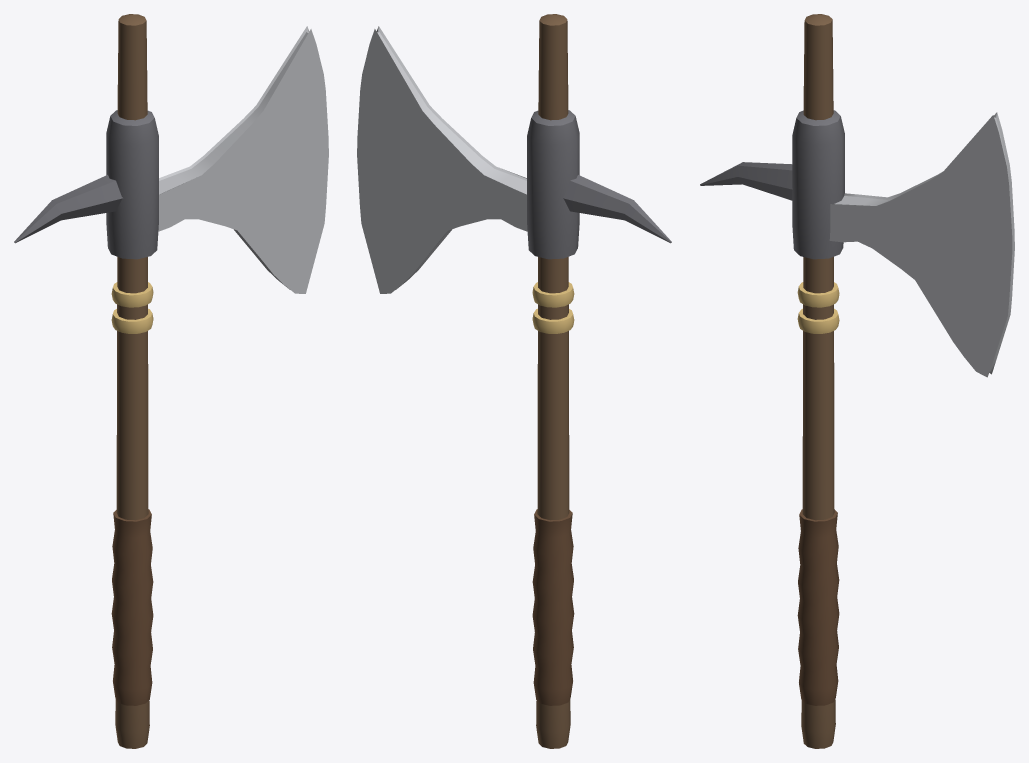
The model's file is hand_axe.glb.
3 views of the same model, side by side, from view 1: azimuth 30°, elevation 25°; view 2: azimuth 150°, elevation 25°; view 3: azimuth 330°, elevation 25° (orthographic).
Parts seen in each view (by area): view 1: hand_axe; view 2: hand_axe; view 3: hand_axe.
Boxes of the visible parts, x1,y1,x2,y2 form: hand_axe: (14,14,328,748); hand_axe: (357,14,671,748); hand_axe: (700,14,1014,748).
Size of the model in its own units: 0.3719 by 0.825 by 0.0517.
